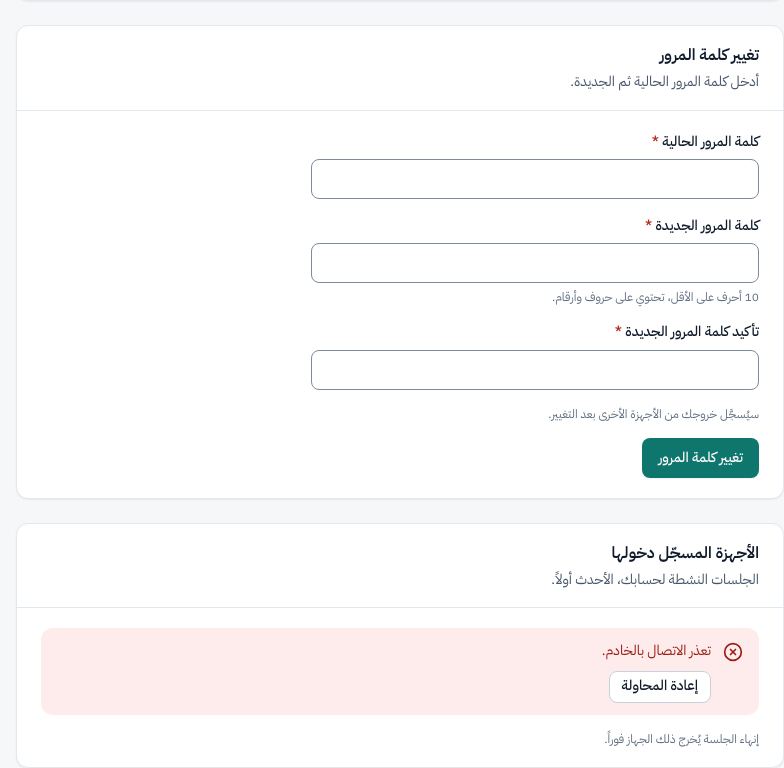
Test: Account page — sessions › shows an error with retry when the sessions can't be loaded
(page scrolled)
Check: the message shows "تعذر الاتصال بالخادم.", box [602,640,711,661]
Click the button "إعادة المحاولة": click(660, 687) [608,671,711,703]
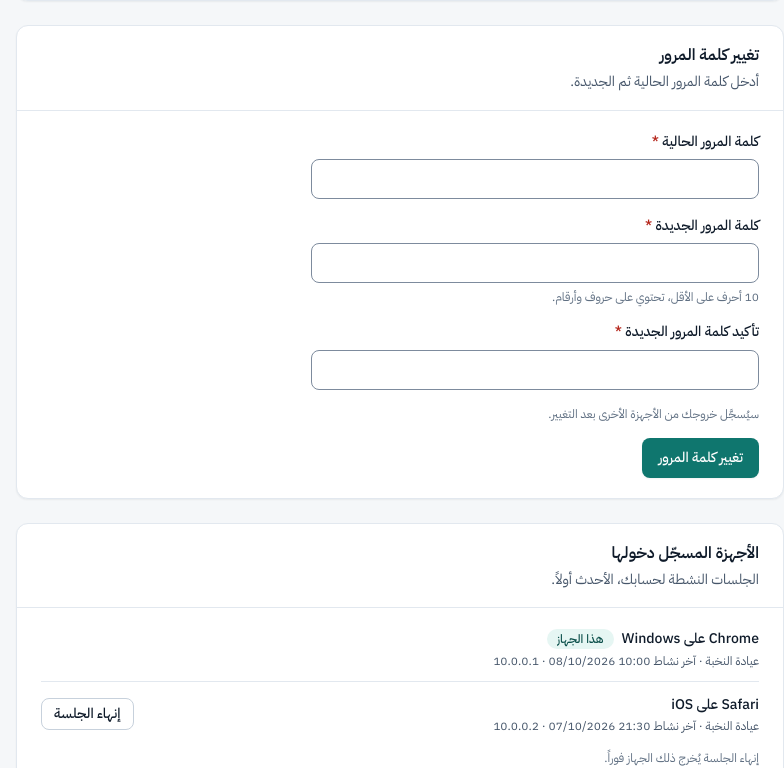
Check: the text "Chrome على Windows" is shown, box [622,628,759,649]
